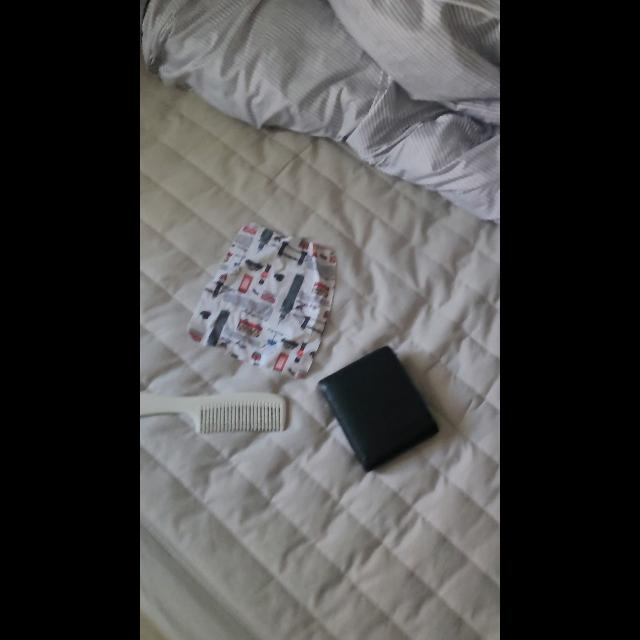COMB: (140, 392, 286, 434)
Glasses cleaning cloth: (186, 222, 338, 378)
WALLET: (317, 346, 438, 472)
